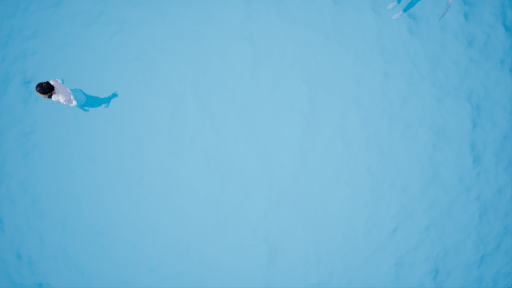person: (35, 77, 124, 115)
